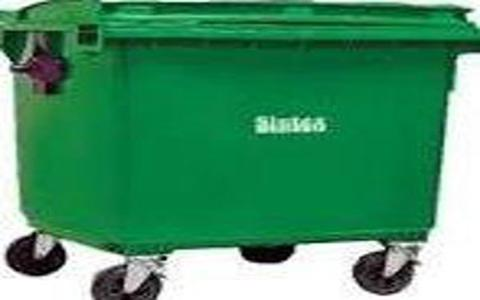Proper garbage: (1, 1, 474, 295)
